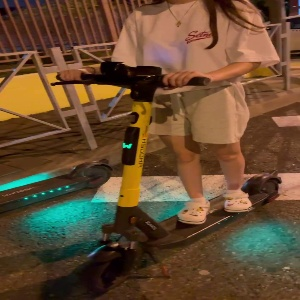human on a scooter: (48, 1, 285, 294)
